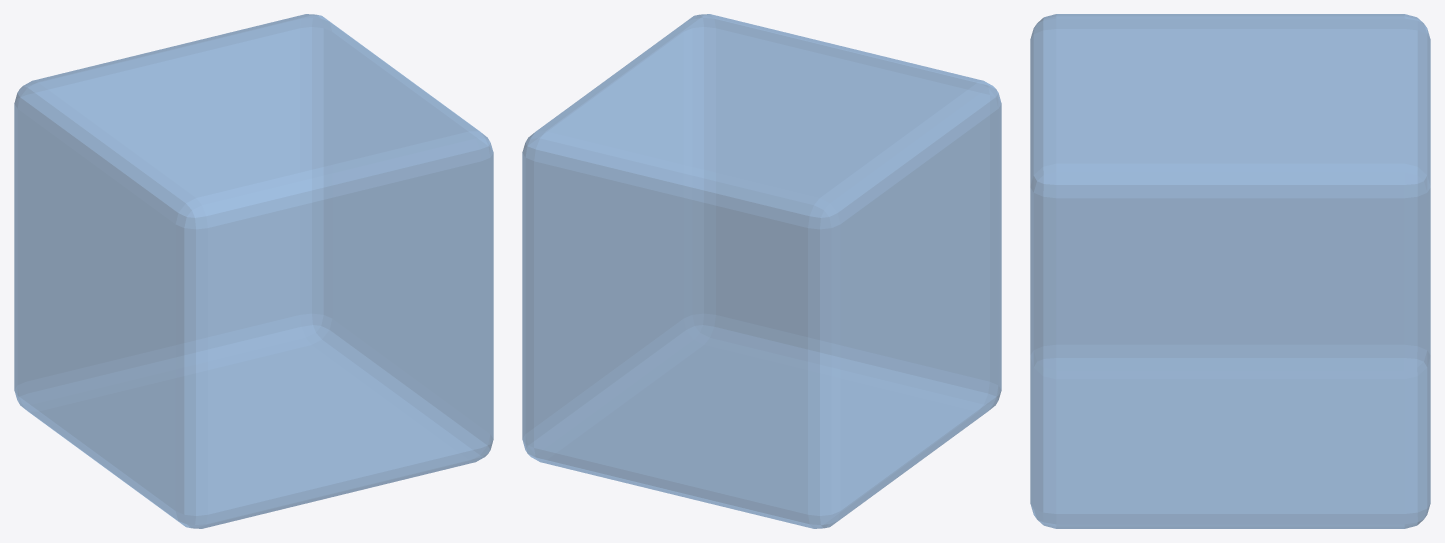
3 renders of one model, left to right at view 1: azimuth 30°, elevation 25°; view 2: azimuth 150°, elevation 25°; view 3: azimuth 270°, elevation 25°, orthographic. The views are drawn at different scales.
Visible parts, largest first — view 1: Cube; view 2: Cube; view 3: Cube.
Part boxes in pixels (x1=…): Cube: x1=14, y1=14, x2=493, y2=528; Cube: x1=522, y1=14, x2=1001, y2=528; Cube: x1=1030, y1=14, x2=1430, y2=528.
Size of the model in its own units: 2 by 2 by 2.
